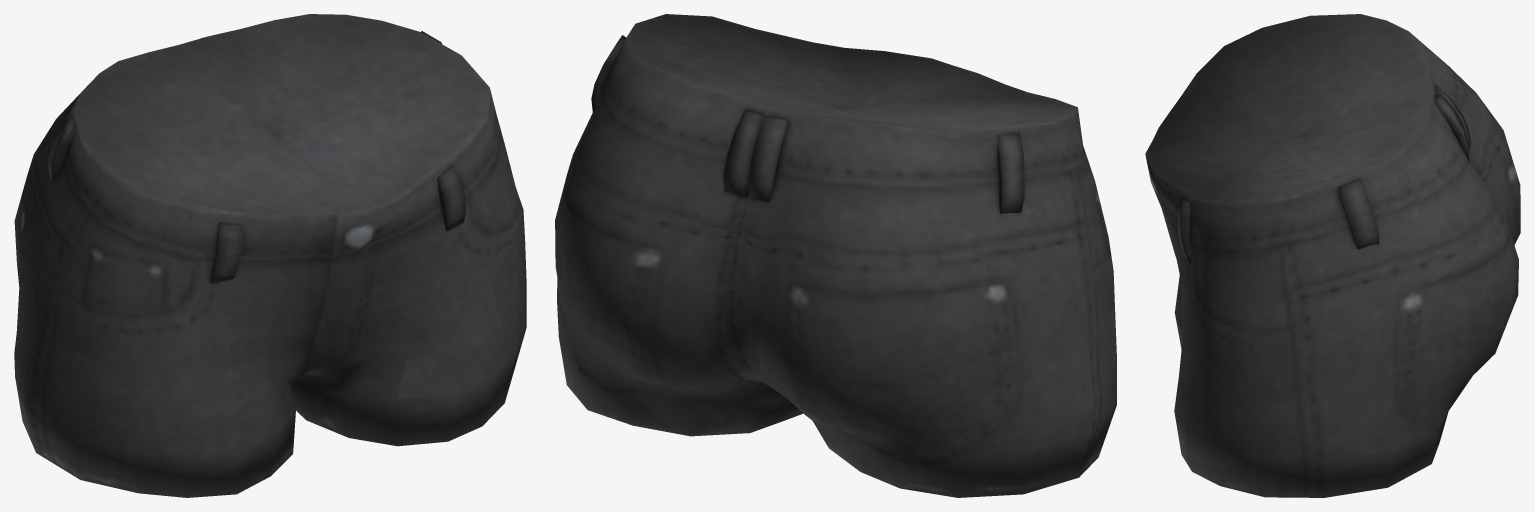
Rendered from shorttest.fbx.
3 renders of one model, left to right at view 1: azimuth 30°, elevation 25°; view 2: azimuth 150°, elevation 25°; view 3: azimuth 270°, elevation 25°, orthographic. The views are drawn at different scales.
Parts seen in each view (by area): view 1: Bottoms; view 2: Bottoms; view 3: Bottoms.
Boxes of the visible parts, bbox=[...] form: Bottoms: bbox=[14, 14, 526, 497]; Bottoms: bbox=[555, 14, 1116, 497]; Bottoms: bbox=[1145, 14, 1520, 497].
Size of the model in its own units: 38.93 by 26.53 by 28.1.
